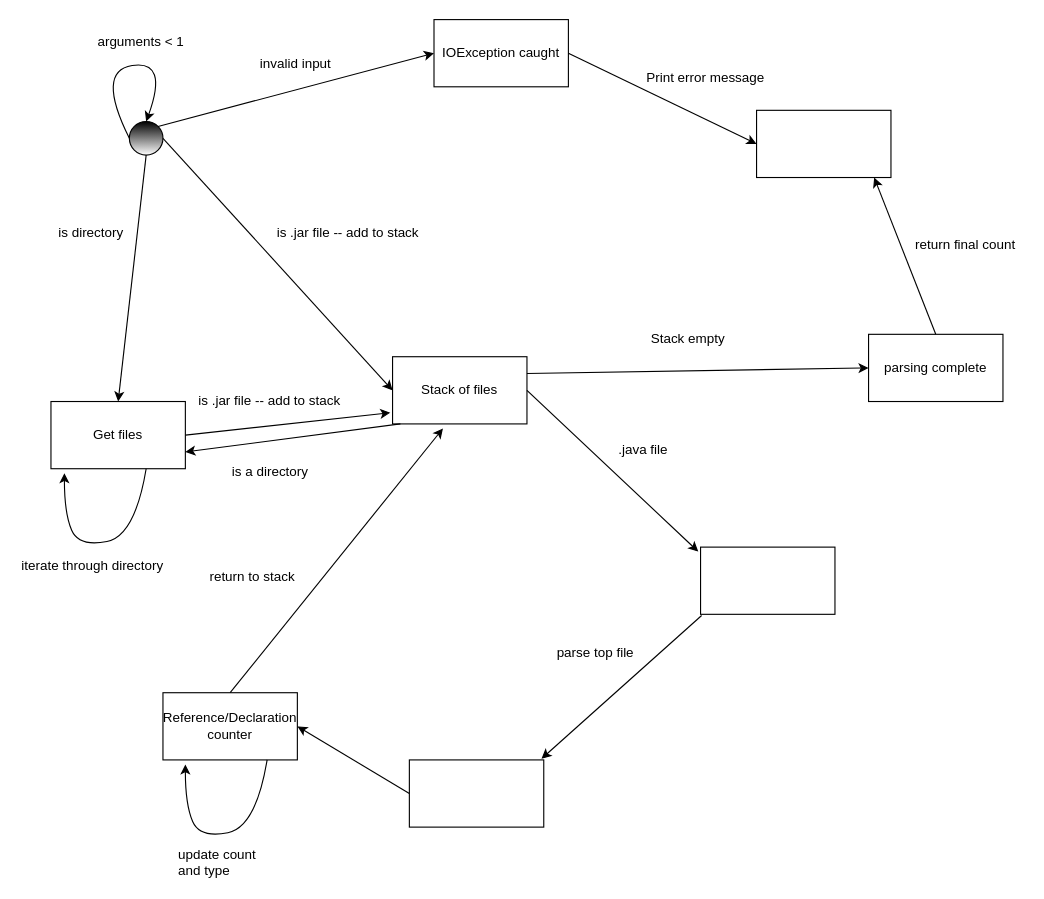
The diagram is 1044 pixels wide and 899 high, and some of its shapes have lost their labels. Here are the shapes that lost their labels. From the top down, the centre of each, then its label:
At point (823, 143): "Exit".
At point (767, 580): "Ready to parse".
At point (476, 793): "Check node".
